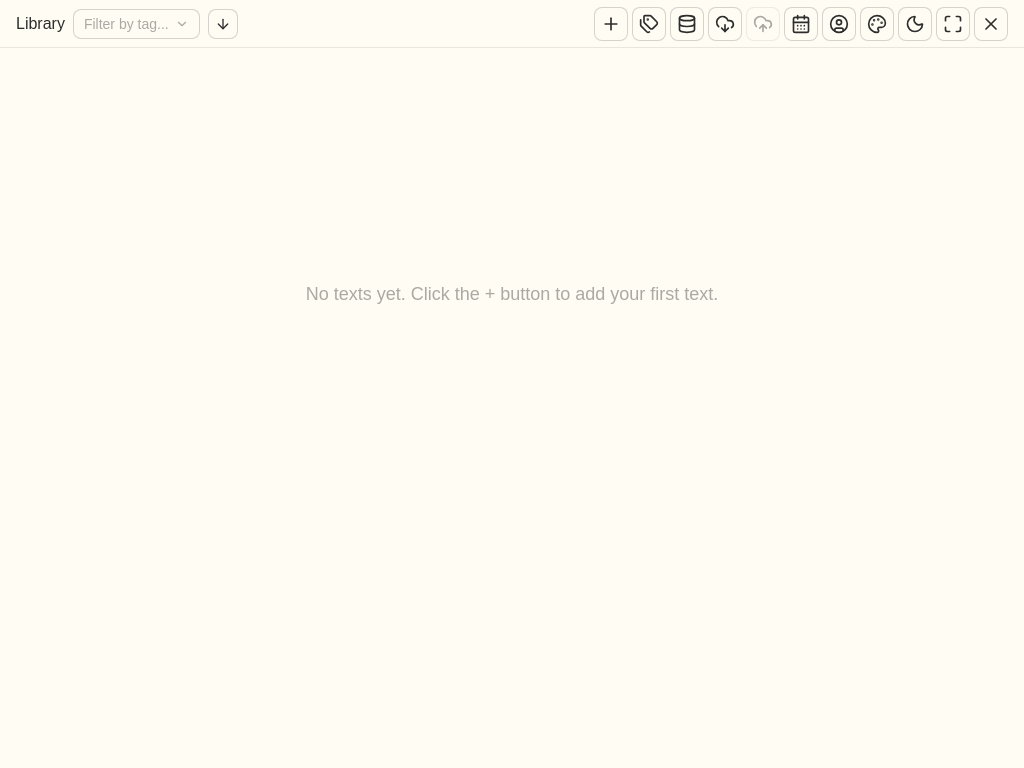
Test case: Multi-Text Library Flow › US2: Add Text › add button navigates to input view with title and content fields
Click the button named "add text": (611, 24) [594,6,628,40]
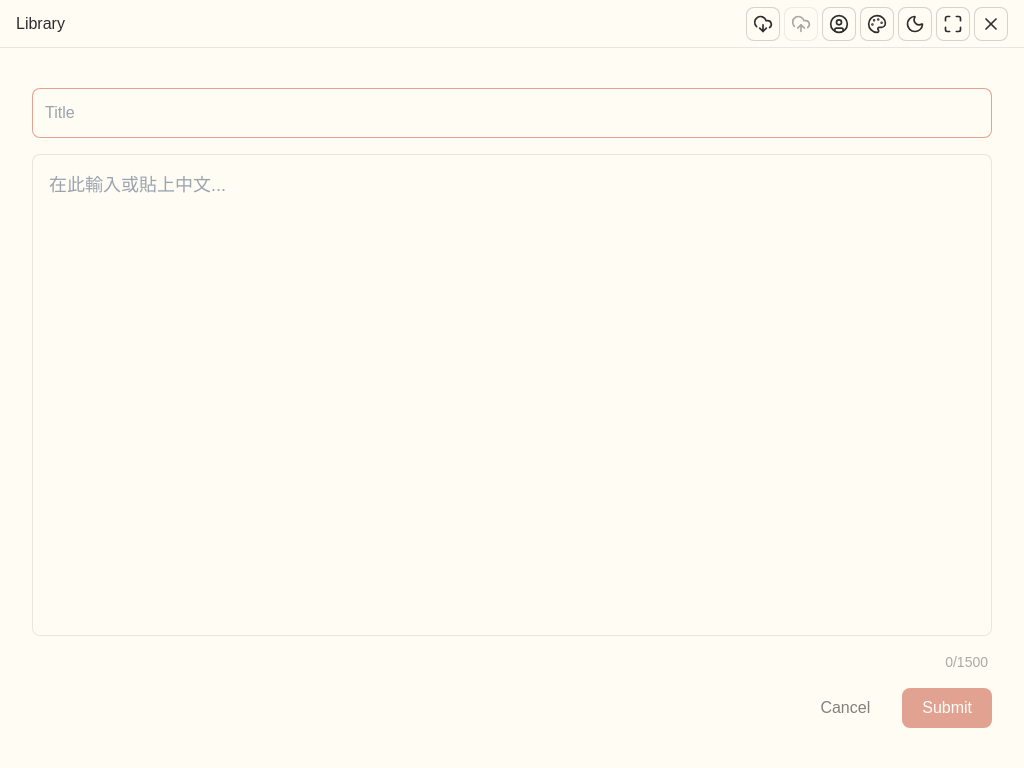
Expected: the field with placeholder "Title" is shown, [32,88,992,138]
Expected: the text box with placeholder "在此輸入或貼上中文..." is shown, [32,154,992,636]
